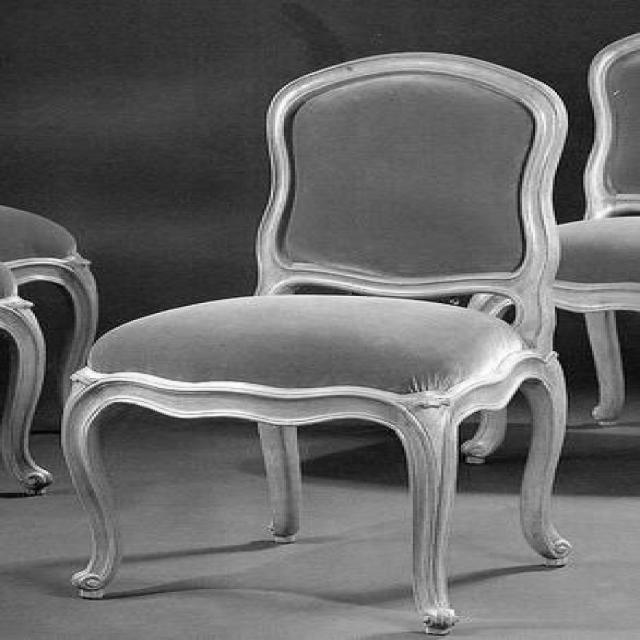chair: (58, 51, 580, 630), (463, 25, 638, 468)
